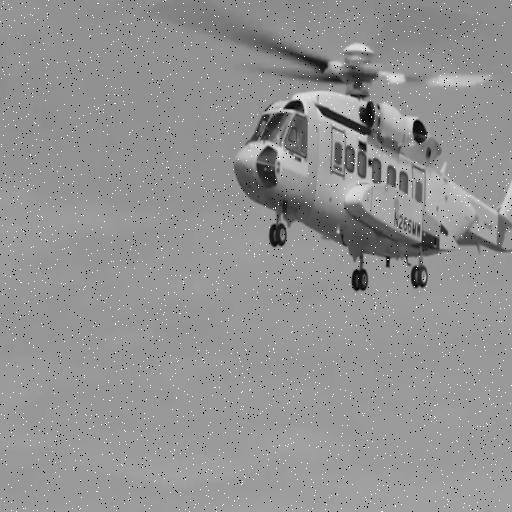helicopter: (189, 28, 512, 307)
